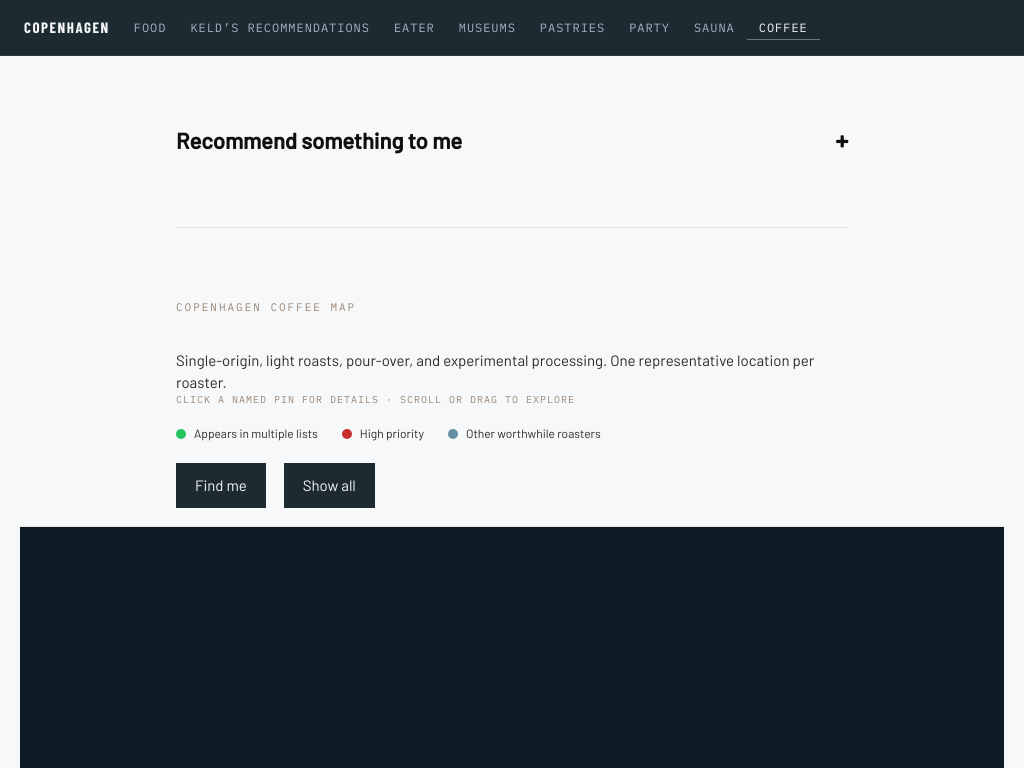
coffee deep link works and location access is requested only on click
This screenshot has width=1024, height=768.
Click the button "Find me" at (221, 485), box top-left (176, 463), bottom-right (266, 508)
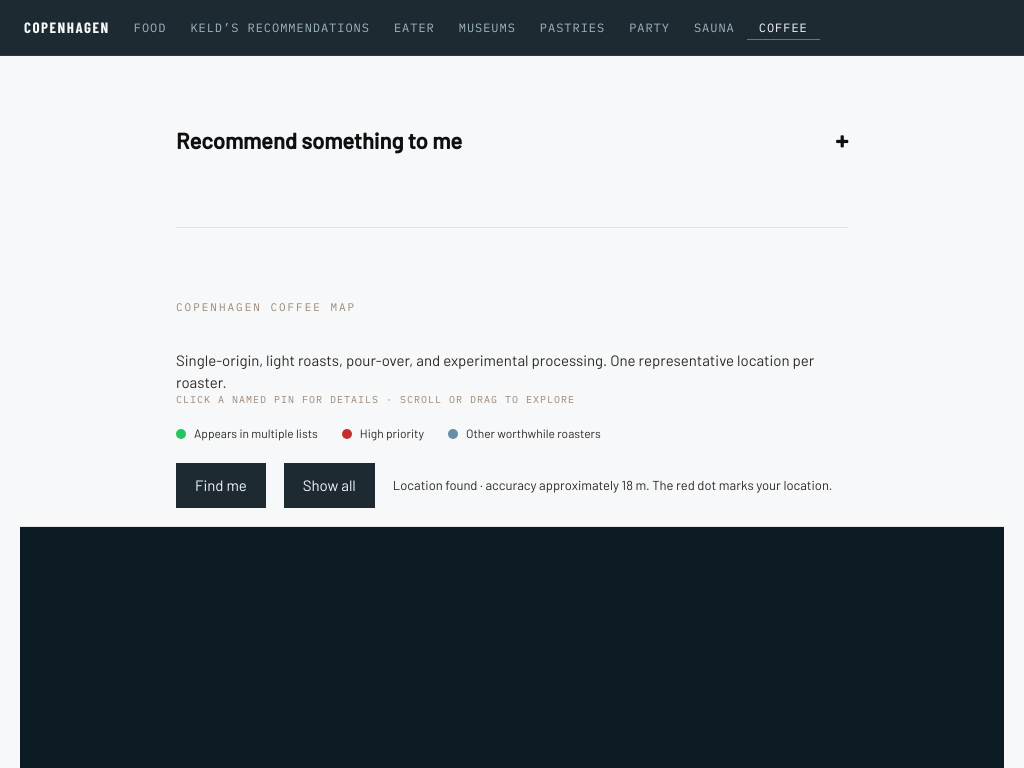
Expected: the message shows "accuracy approximately 18 m", top-left (393, 477), bottom-right (832, 493)
